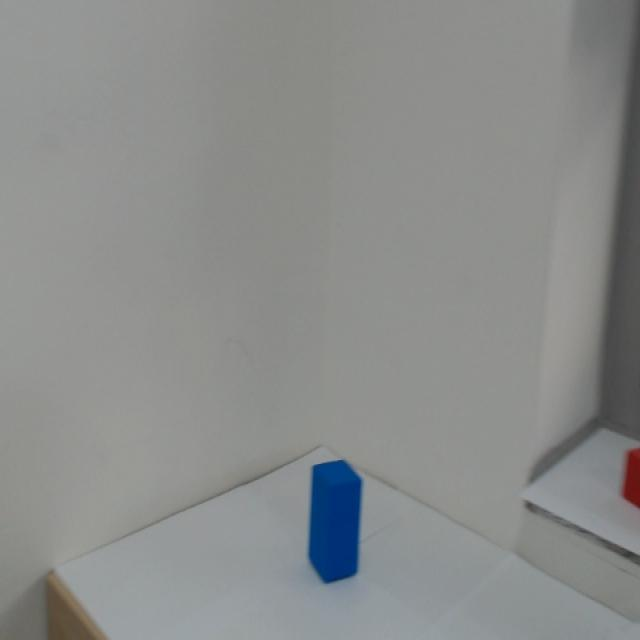cube: (265, 439, 358, 613)
